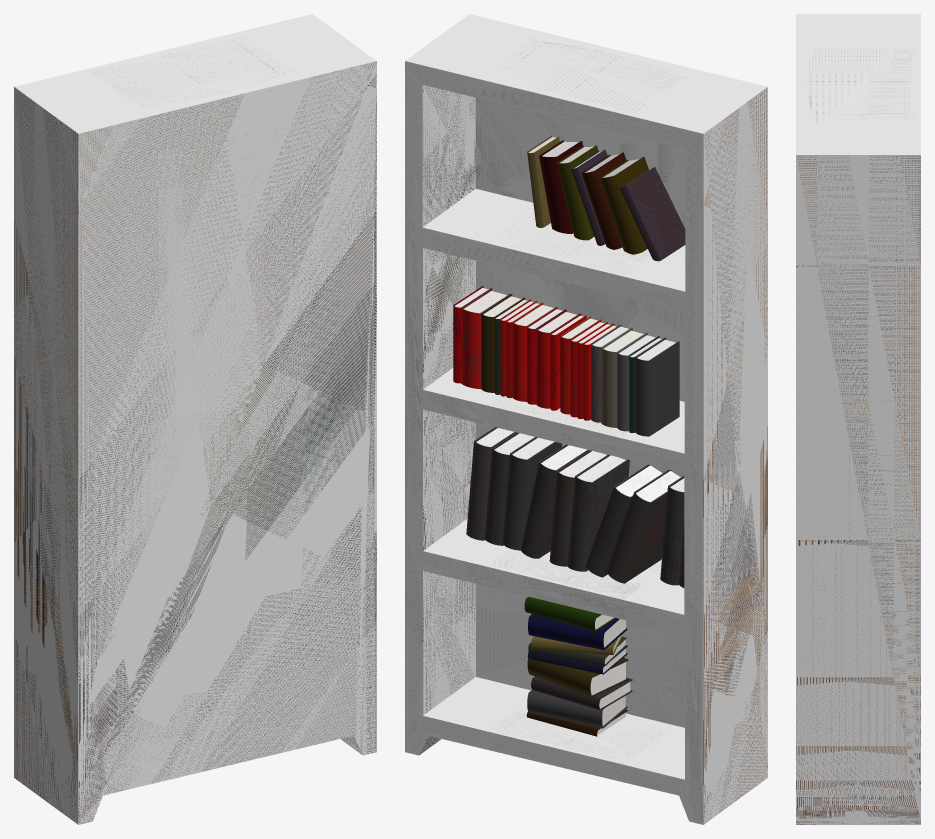
3 renders of one model, left to right at view 1: azimuth 30°, elevation 25°; view 2: azimuth 150°, elevation 25°; view 3: azimuth 270°, elevation 25°, orthographic. The views are drawn at different scales.
Parts seen in each view (by area): view 1: mesh47_mesh47-geometry; view 2: mesh47_mesh47-geometry, mesh30_mesh30-geometry, mesh2_mesh2-geometry, mesh27_mesh27-geometry, mesh46_mesh46-geometry, mesh24_mesh24-geometry, mesh28_mesh28-geometry, mesh29_mesh29-geometry, mesh44_mesh44-geometry, mesh26_mesh26-geometry, mesh25_mesh25-geometry, mesh23_mesh23-geometry (+32 smaller); view 3: mesh47_mesh47-geometry.
Part boxes in pixels (<box>): mesh47_mesh47-geometry: <box>14,14,376,824</box>; mesh47_mesh47-geometry: <box>405,14,767,824</box>; mesh30_mesh30-geometry: <box>607,469,680,583</box>; mesh2_mesh2-geometry: <box>635,337,679,436</box>; mesh27_mesh27-geometry: <box>567,454,629,571</box>; mesh46_mesh46-geometry: <box>619,167,685,261</box>; mesh24_mesh24-geometry: <box>502,437,561,550</box>; mesh28_mesh28-geometry: <box>521,444,588,558</box>; mesh29_mesh29-geometry: <box>585,464,662,577</box>; mesh44_mesh44-geometry: <box>599,156,648,254</box>; mesh26_mesh26-geometry: <box>549,450,606,566</box>; mesh25_mesh25-geometry: <box>466,427,516,540</box>; mesh23_mesh23-geometry: <box>484,432,534,545</box>; mesh47_mesh47-geometry: <box>796,14,920,824</box>.
Size of the model in its own units: 0.407 by 0.9007 by 0.1519.
